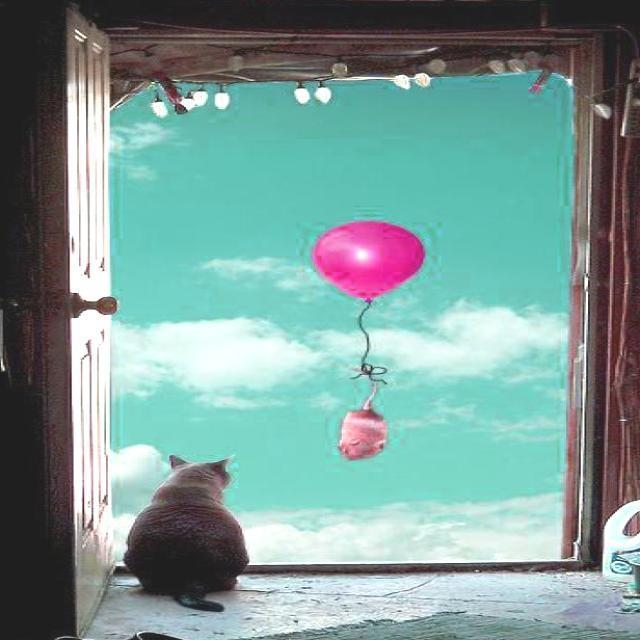door: (36, 11, 121, 629)
